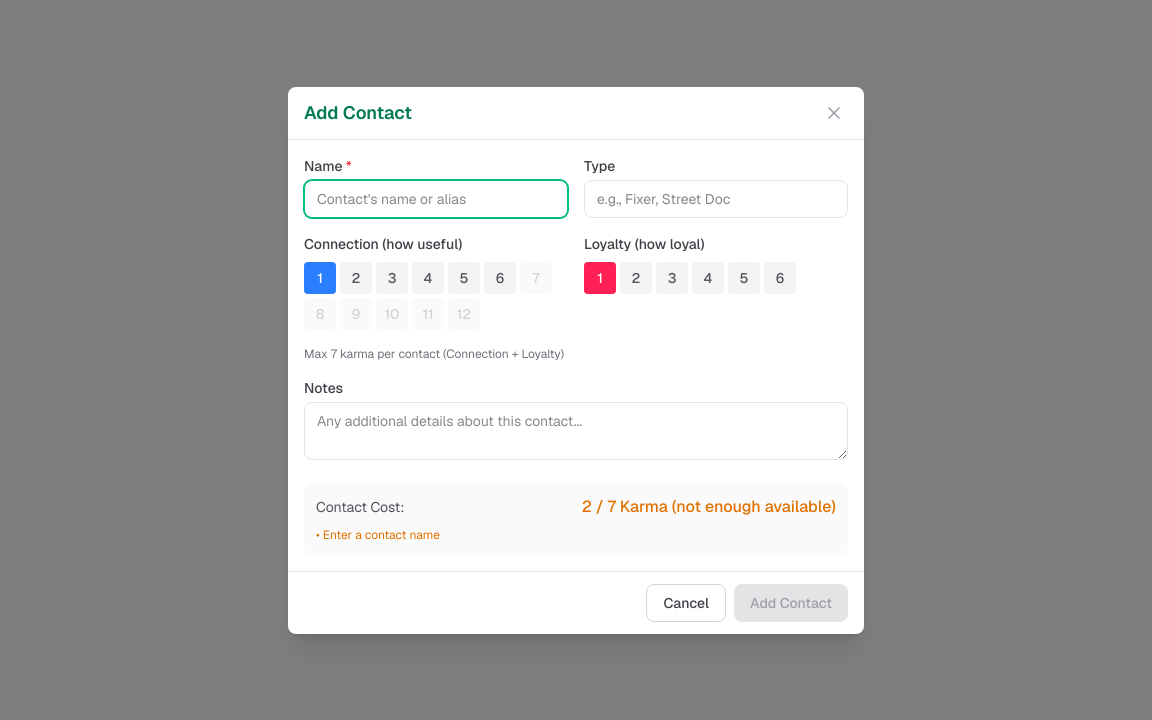
it: ContactModal › validation › shows not enough karma message
In the field with placeholder "Contact's name or alias": {"x": 436, "y": 198} [304,180,568,218], type "Johnny"
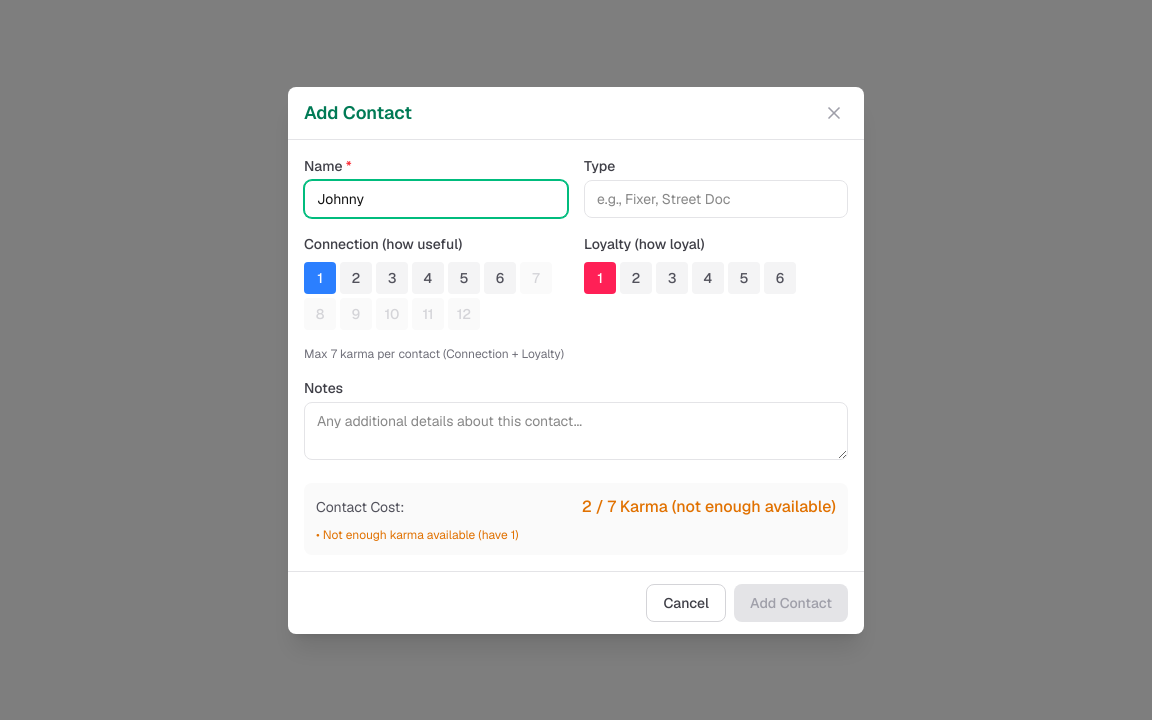
Now the text "• Not enough karma available (have 1)" is shown, box [316,526,519,542]
